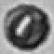correct: (3, 2, 53, 52)
